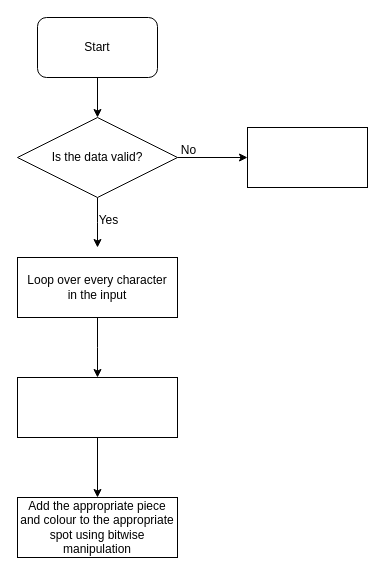
Image size: 385x575. Some labels were removed from this diagram. Each missing label, with the box of its shape:
Check the piece type and its colour: (16, 376, 178, 438)
Raise Exception: (246, 126, 368, 188)
